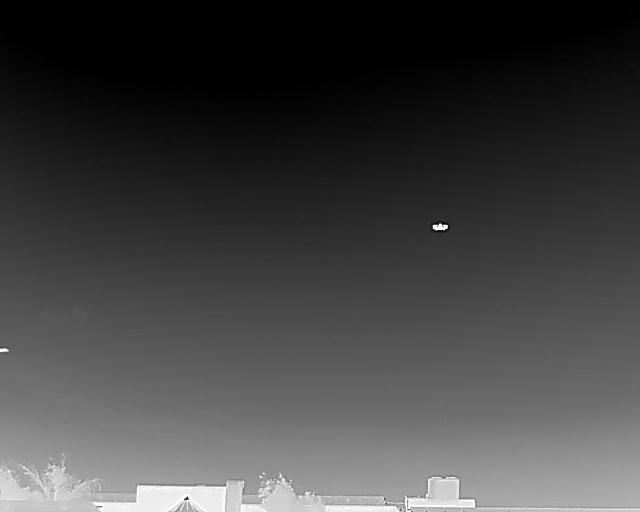fpv-drone: (432, 223, 448, 231)
